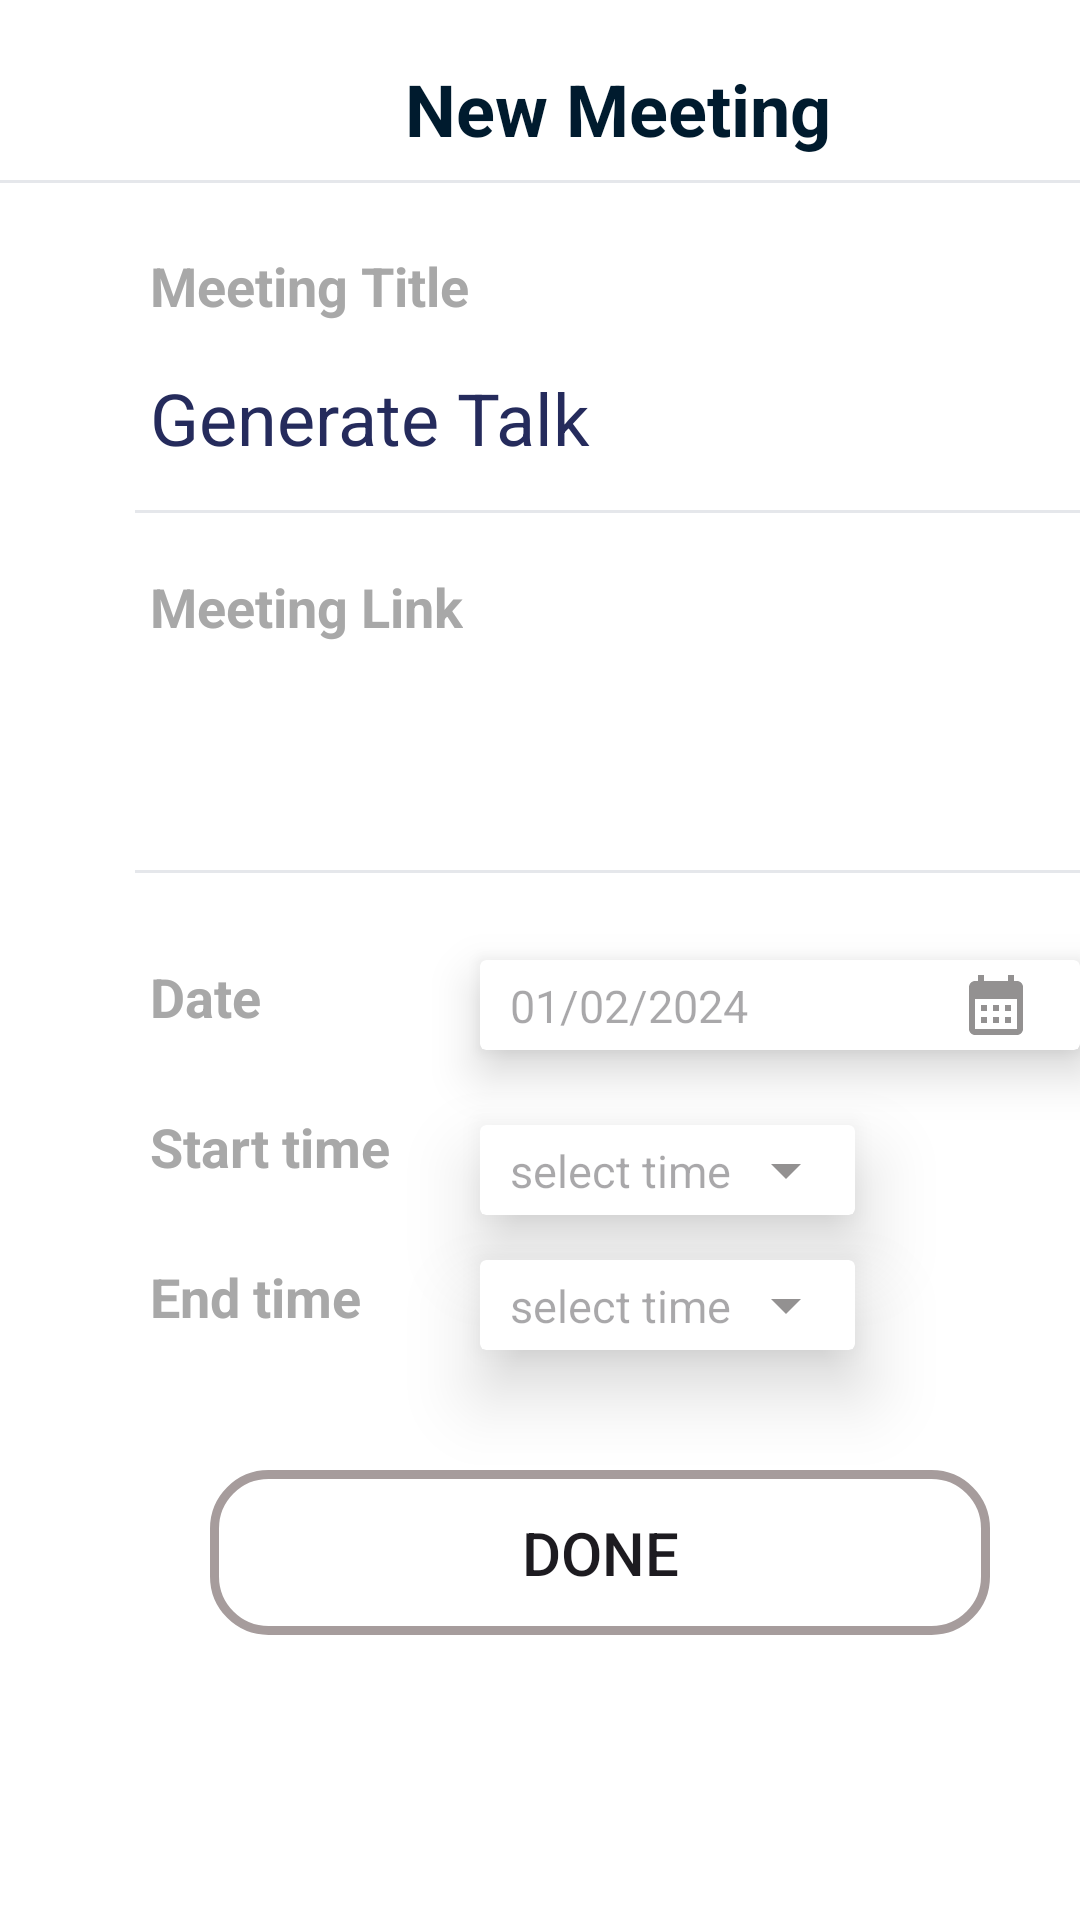

Named icons in this screenshot (1080px×1920px) and their bounding boxes, (x1, y1, x2, y2):
arrow drop down: (771, 1164, 801, 1179), (771, 1299, 801, 1314)
calendar month: (969, 975, 1023, 1035)
